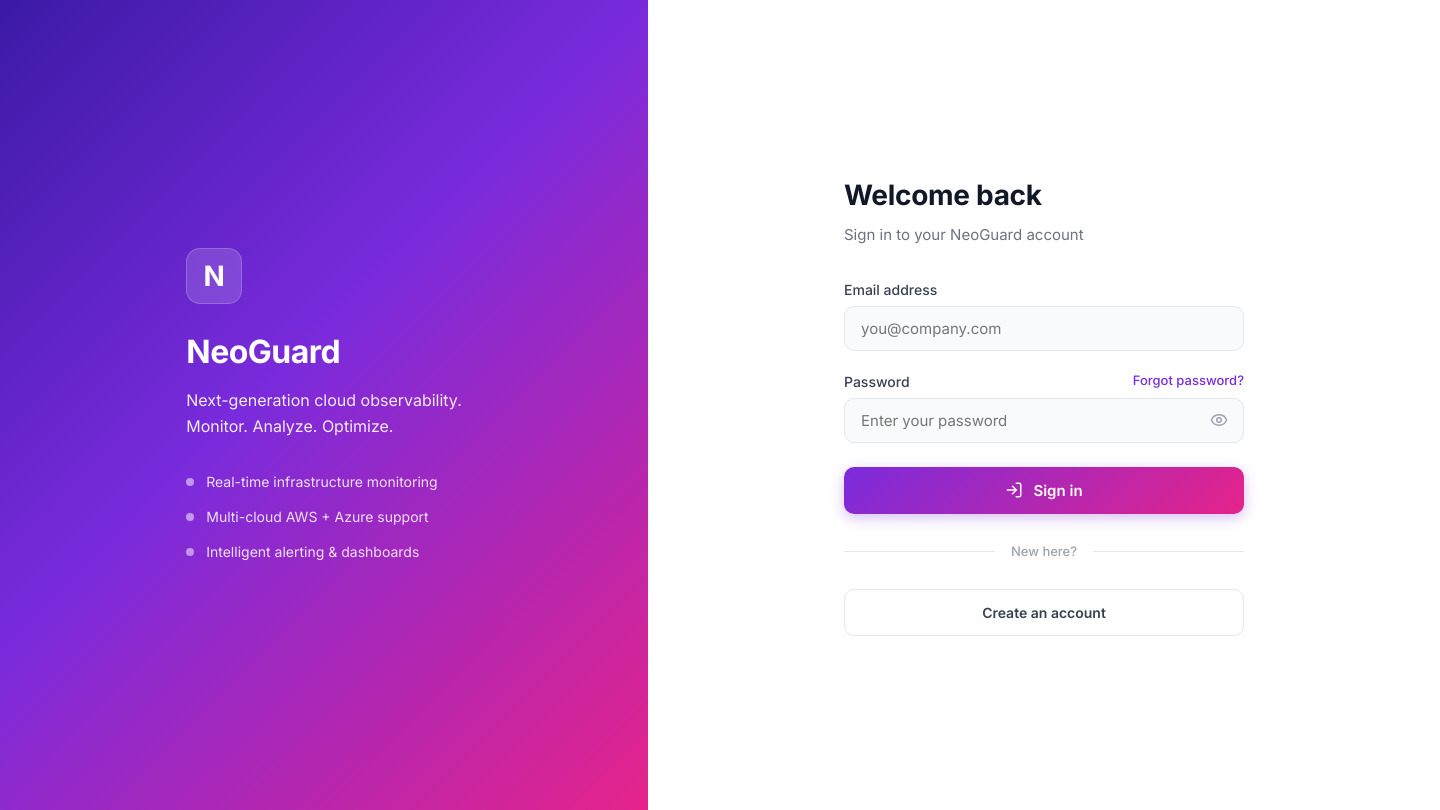
Test: LoginPage › shows loading state while submitting
Type "test@test.com" into the field with placeholder "you@company.com" at (1044, 328), box [844, 306, 1244, 350]
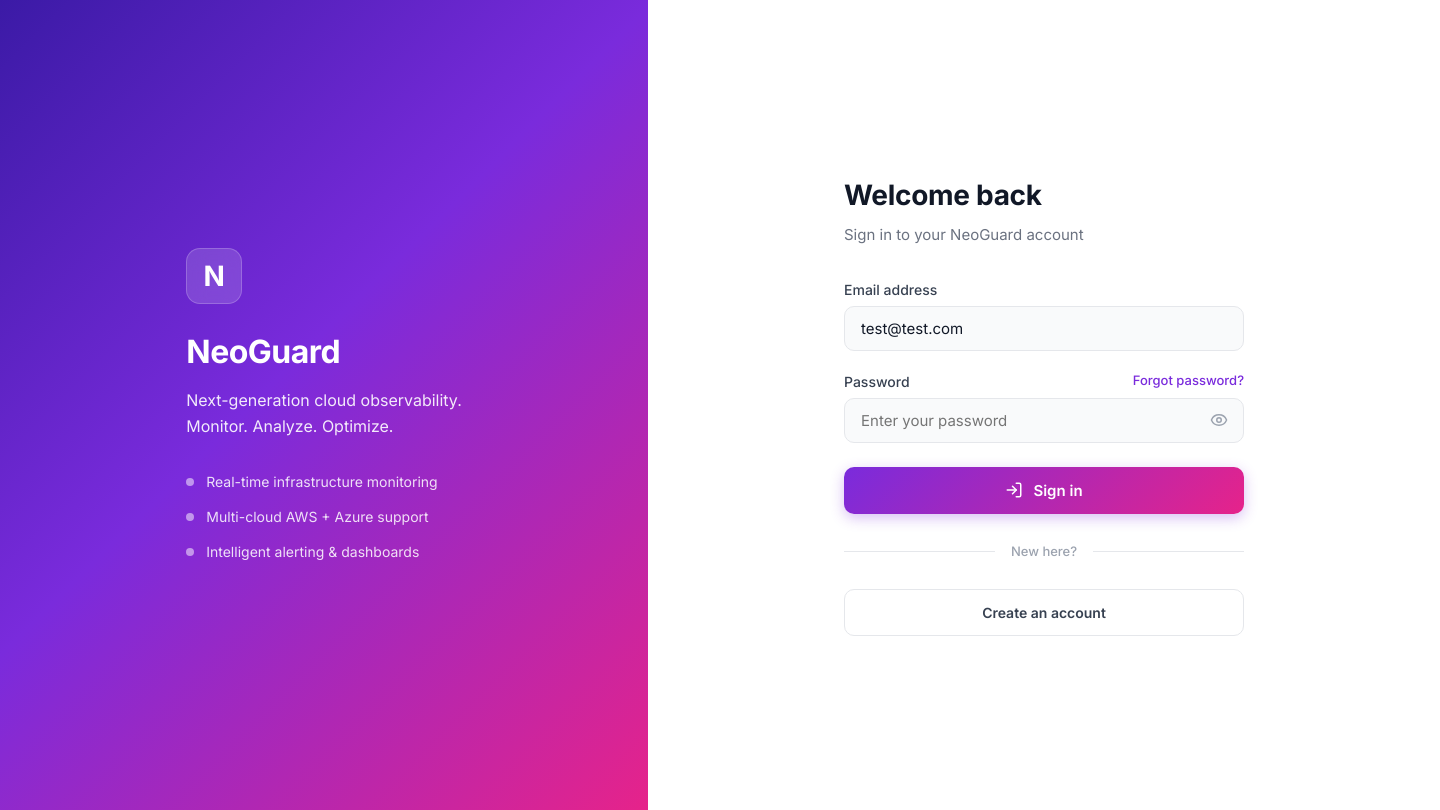
Type "password123" into the password field with placeholder "Enter your password" at (1044, 420), box [844, 398, 1244, 442]
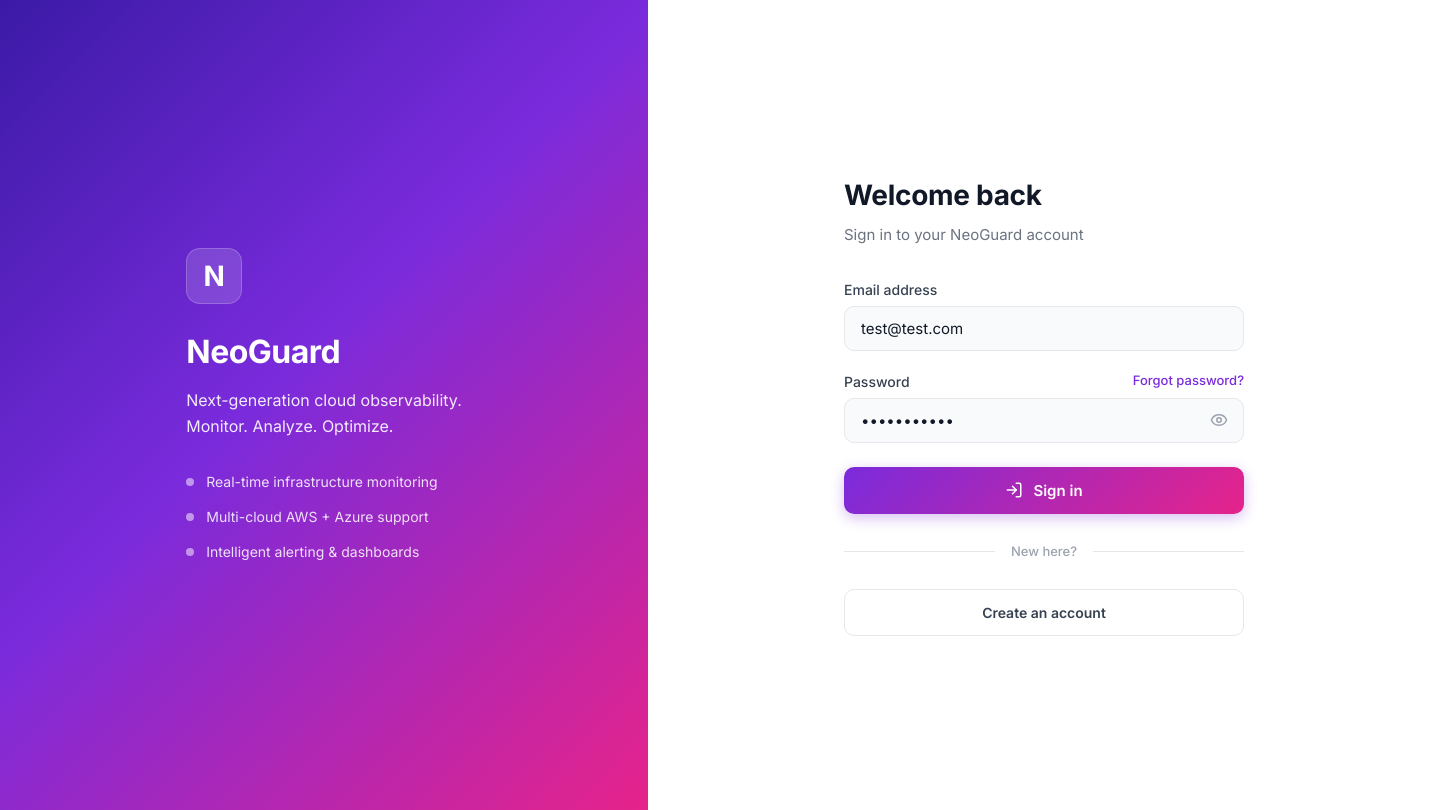
Click the button "Sign in" at (1044, 490), box [844, 466, 1244, 514]
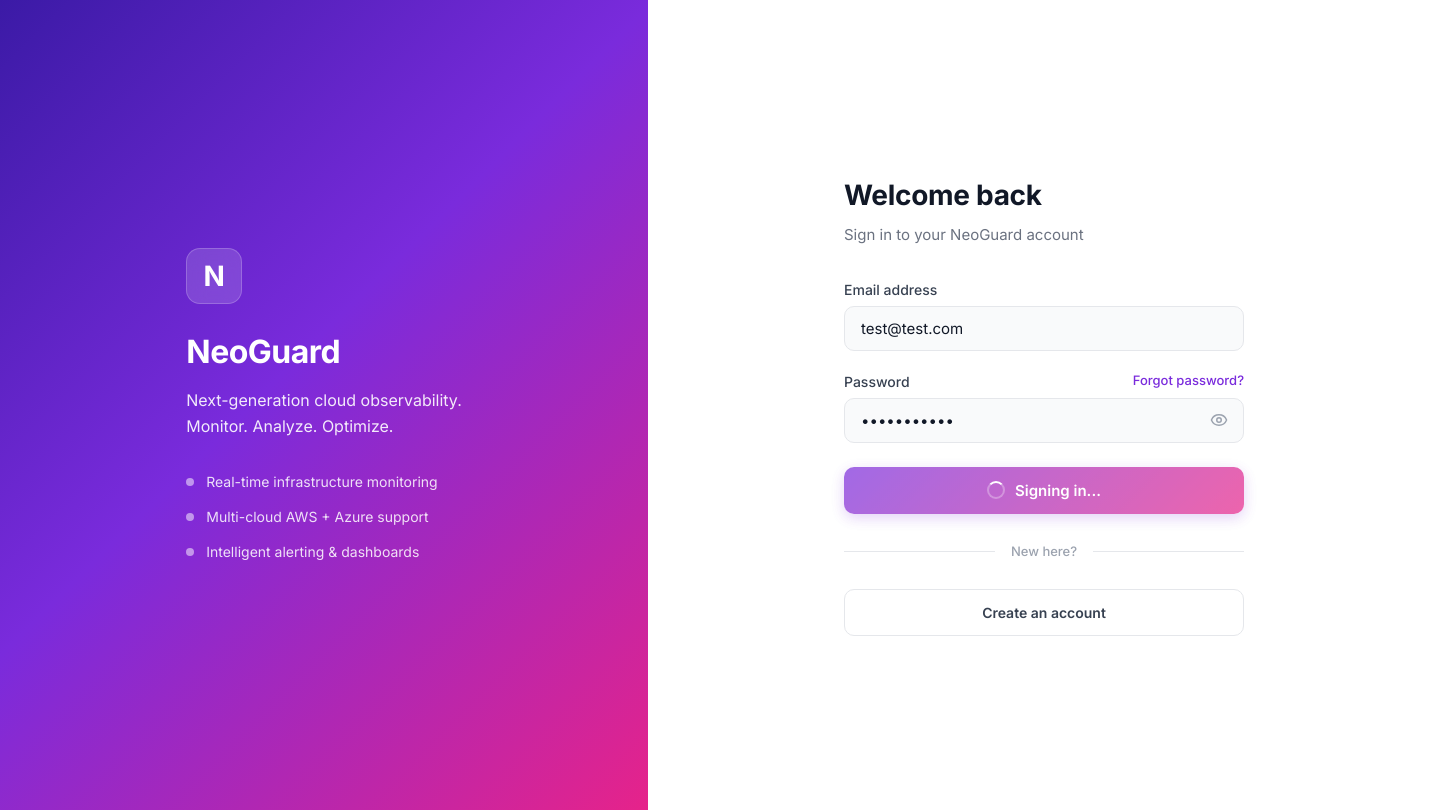
Expected: the button "Signing in..." is disabled, [844, 466, 1244, 514]
